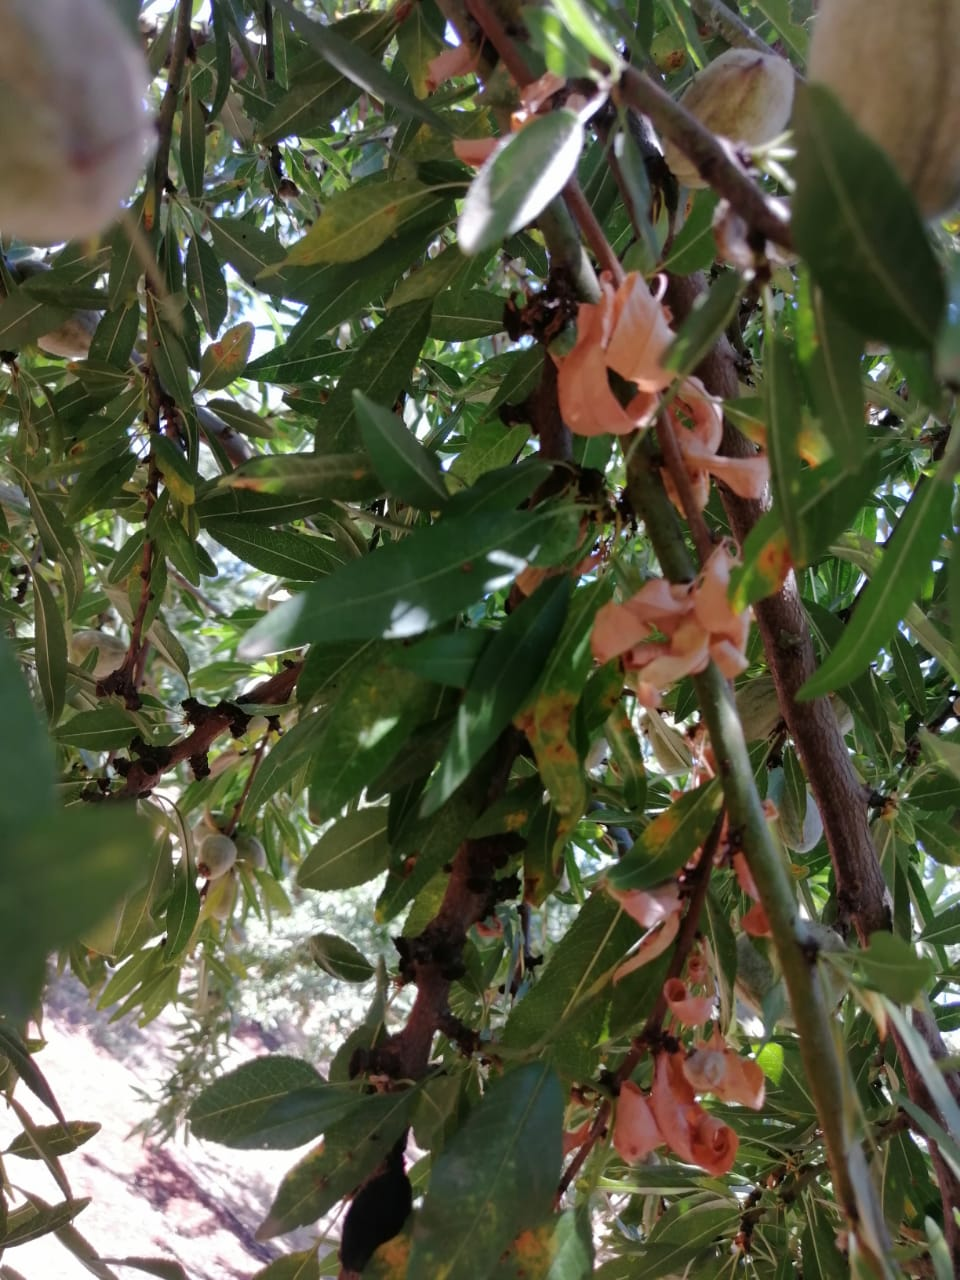chancre fusicocum: (576, 899, 767, 1163), (588, 535, 757, 685)
